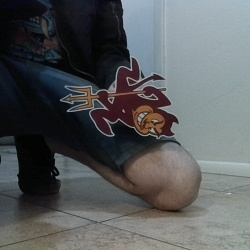sparky: (59, 55, 180, 140)
